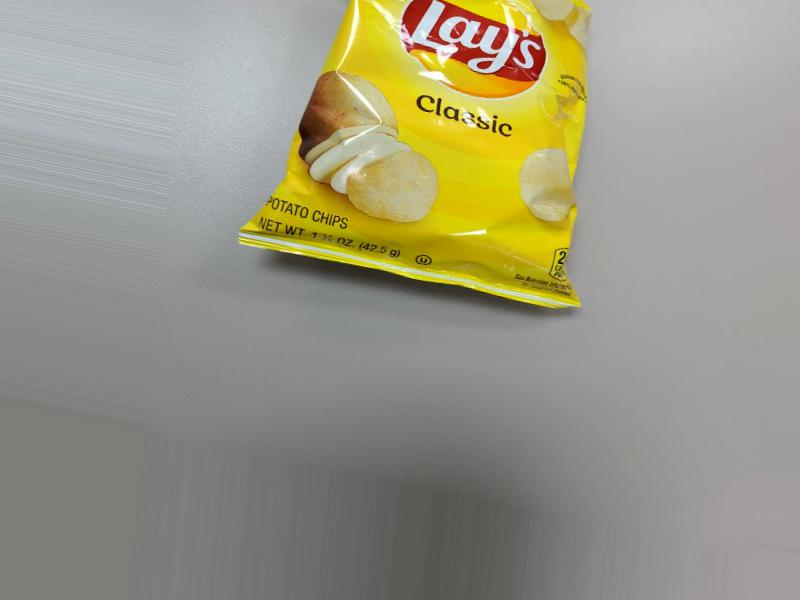lays: (233, 8, 568, 304)
